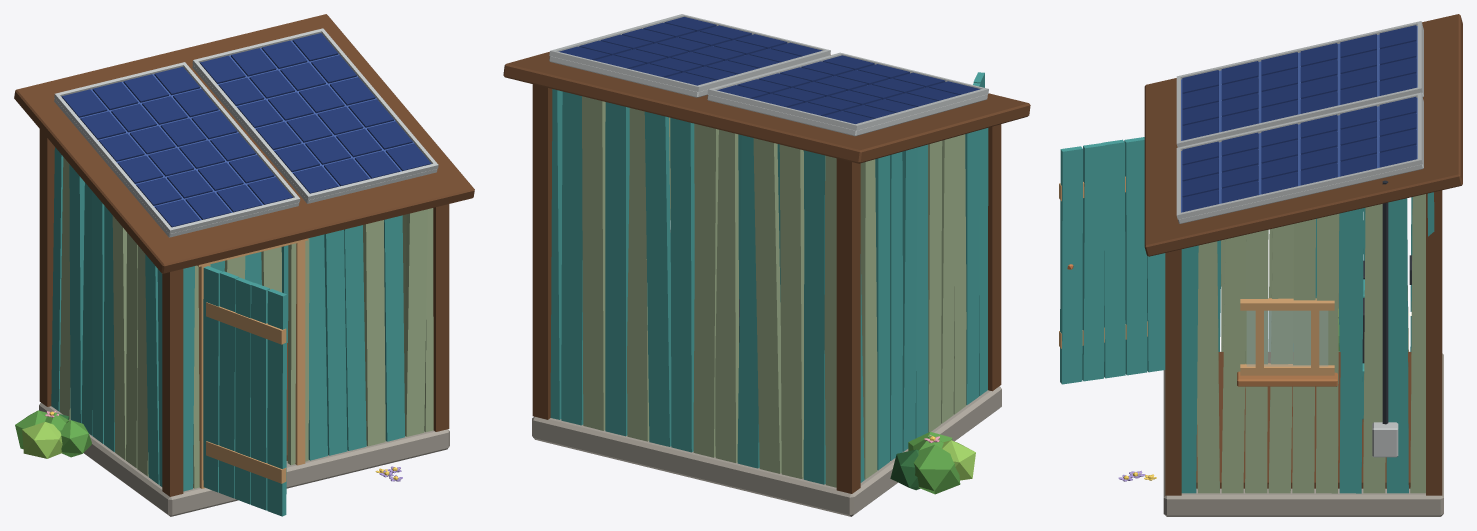
The model's file is battery_shed.glb.
3 views of the same model, side by side, from view 1: azimuth 30°, elevation 25°; view 2: azimuth 150°, elevation 25°; view 3: azimuth 270°, elevation 25° (orthographic). The views are drawn at different scales.
Parts seen in each view (by area): view 1: Battery Shed; view 2: Battery Shed; view 3: Battery Shed.
Part boxes in pixels (x1,y1,x2,y2): Battery Shed: [14, 14, 474, 516]; Battery Shed: [503, 14, 1030, 516]; Battery Shed: [1059, 14, 1462, 516].
Bounding box in the file's own units: 2.68 × 2.41 × 2.48.
3 materials, 1 textured.
